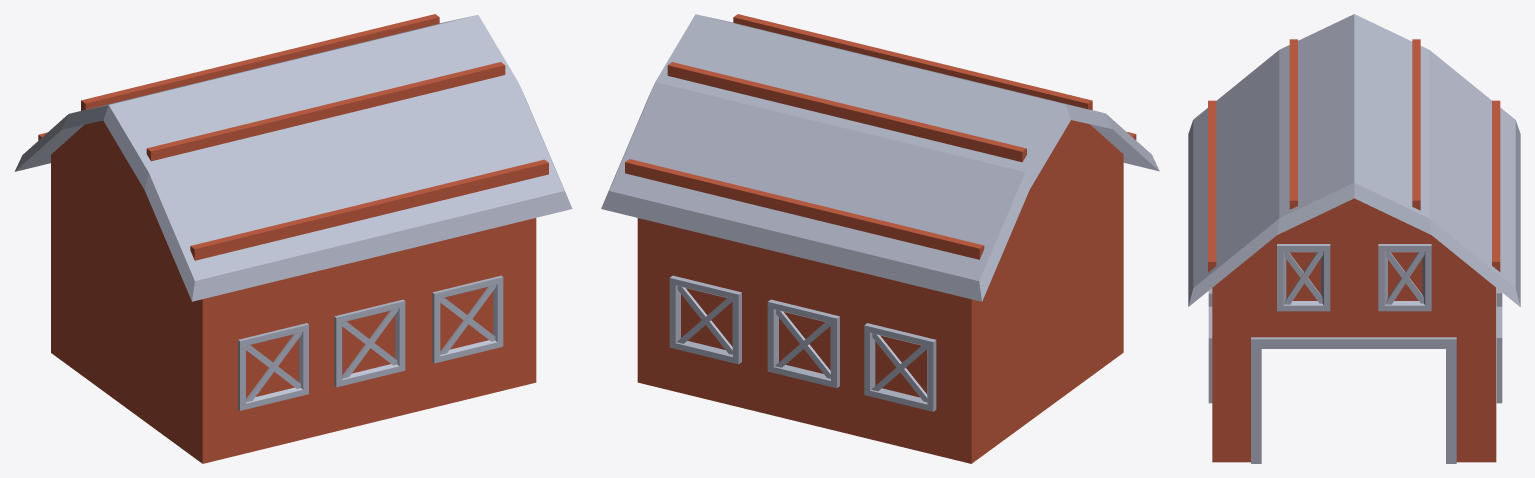
The model's file is barn.fbx.
The picture shows the model from 3 angles, left to right: view 1: azimuth 30°, elevation 25°; view 2: azimuth 150°, elevation 25°; view 3: azimuth 270°, elevation 25°; orthographic projection. The views are drawn at different scales.
Visible parts, largest first — view 1: barn; view 2: barn; view 3: barn.
Boxes of the visible parts, box(x1,y1,x2,y2) form: barn: box(14, 14, 572, 463); barn: box(601, 14, 1159, 463); barn: box(1188, 14, 1520, 463).
Bounding box in the file's own units: 1362 × 1053 × 1101.
